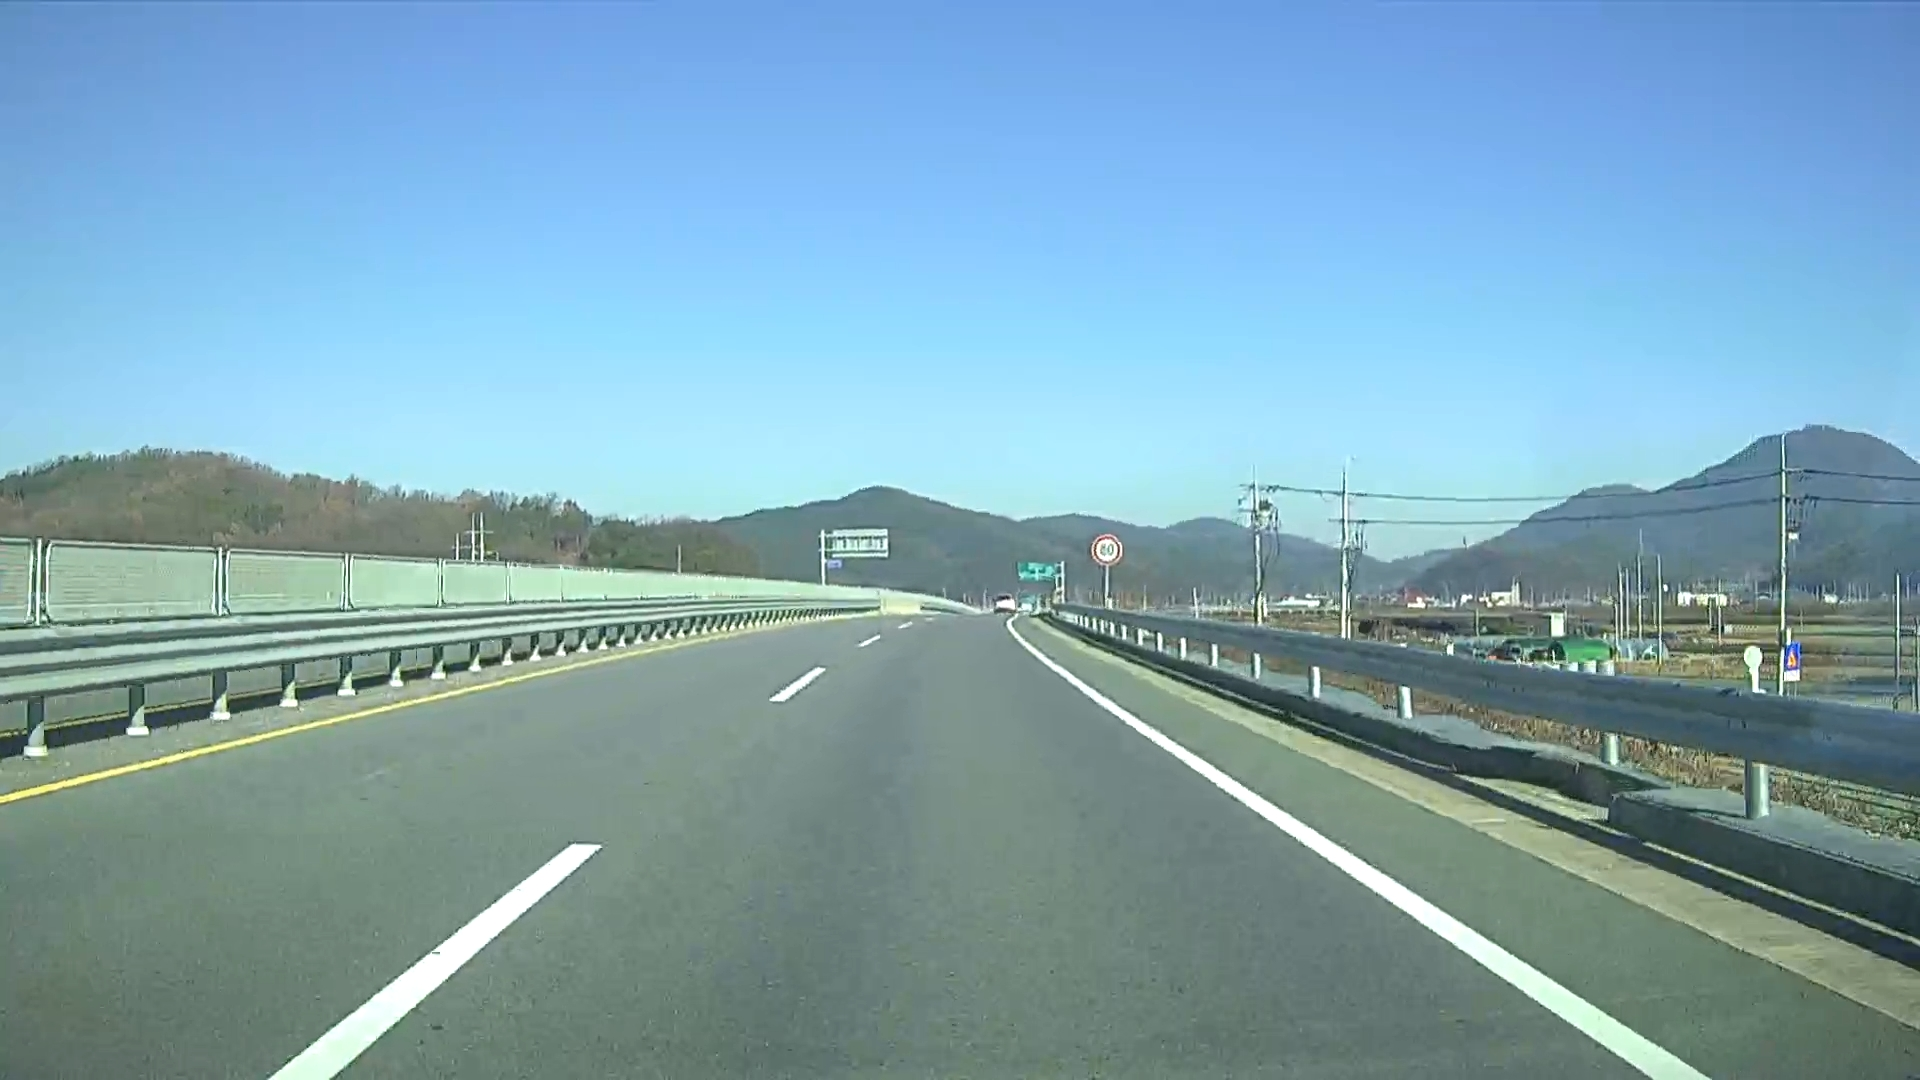trafficSignCircle: (1091, 527, 1125, 564)
